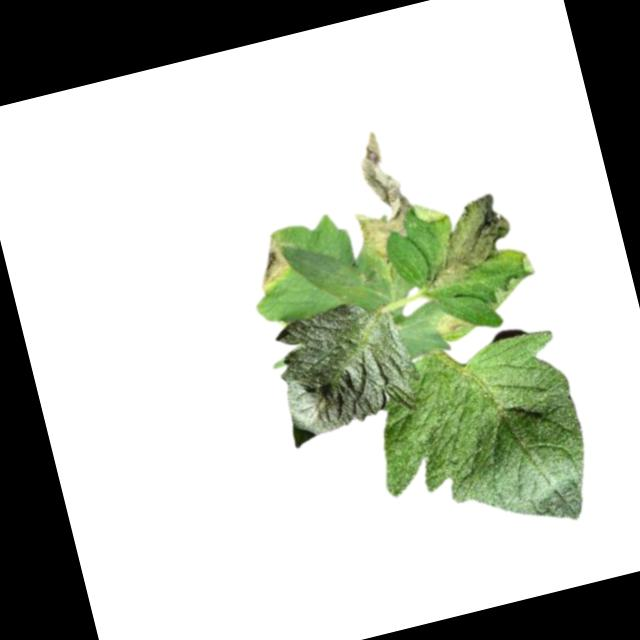Late_blight: (334, 121, 429, 266), (408, 188, 532, 295), (247, 226, 298, 292), (431, 306, 474, 339)
